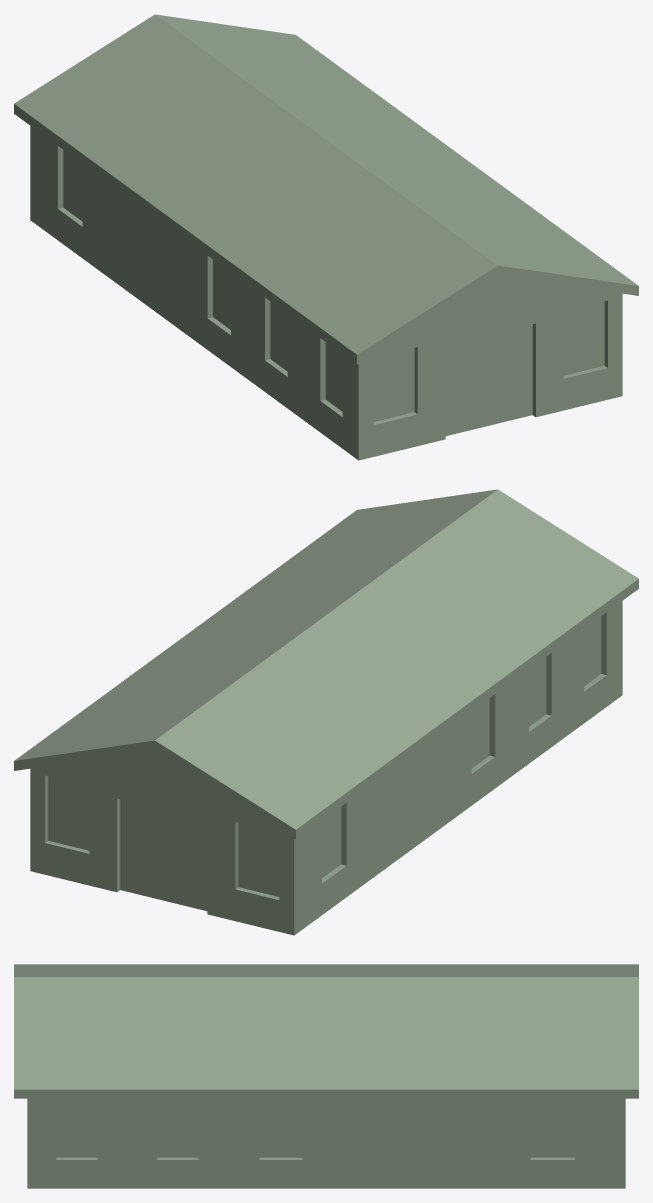
Rendered from barracks_01.fbx.
3 views of the same model, one above another, from view 1: azimuth 30°, elevation 25°; view 2: azimuth 150°, elevation 25°; view 3: azimuth 270°, elevation 25° (orthographic). The views are drawn at different scales.
Parts seen in each view (by area): view 1: barracks_01; view 2: barracks_01; view 3: barracks_01.
Boxes of the visible parts, x1,y1,x2,y2 form: barracks_01: (14,14,638,460); barracks_01: (14,489,638,935); barracks_01: (14,964,638,1188).
Bounding box in the file's own units: 10.62 × 6.05 × 22.38.
